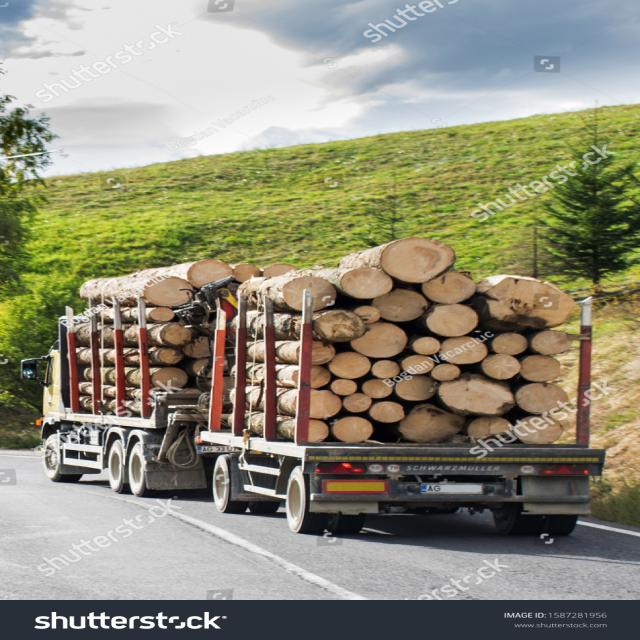Truck: (22, 264, 598, 542)
